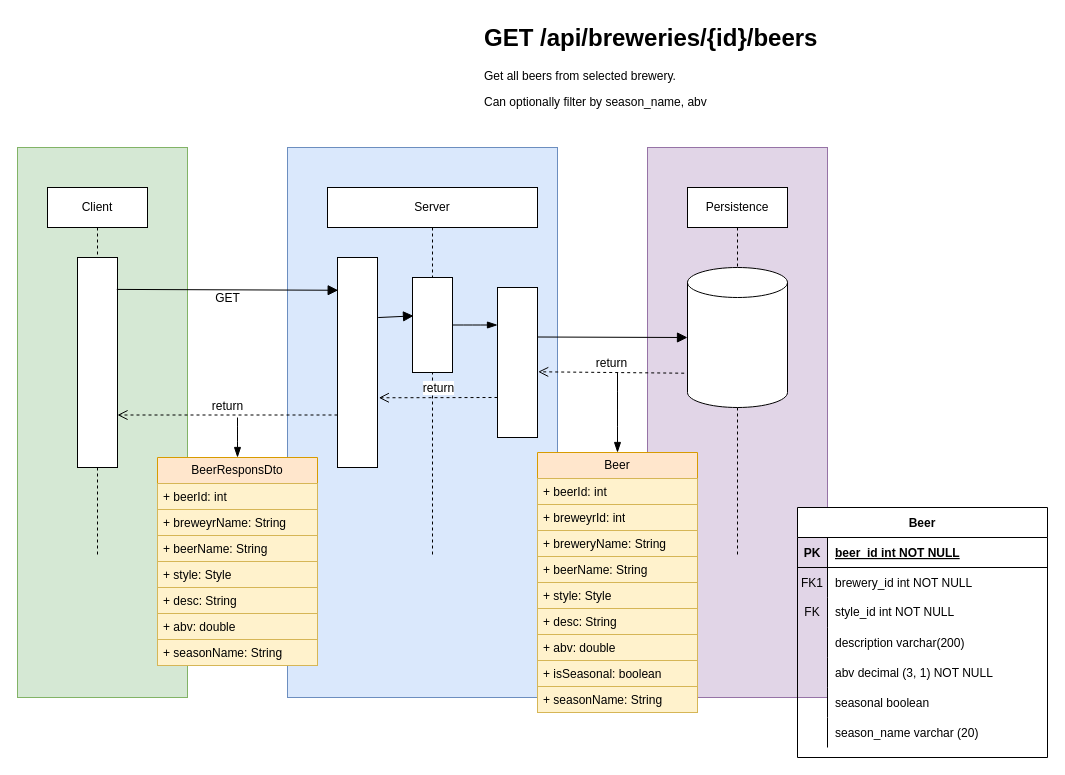
Image size: 1065x775. Some labels were removed from this diagram. Each missing label, with the centre of its shape:
Controller: (x=357, y=362)
DAO: (x=517, y=362)
Postgres Database: (x=737, y=337)
Postman: (x=97, y=362)
Service: (x=432, y=324)
